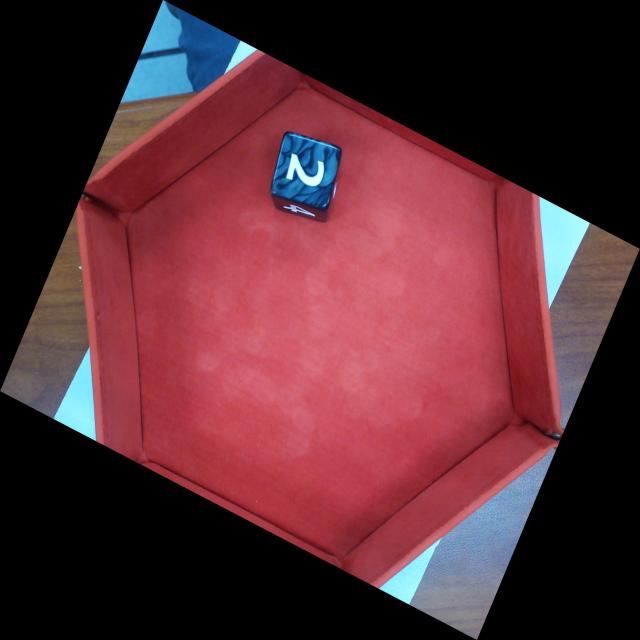dice: (270, 131, 342, 210)
